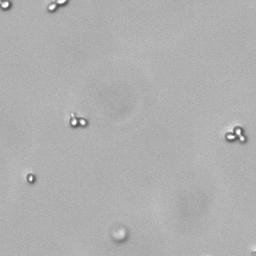budding: (225, 126, 247, 142), (68, 112, 88, 126), (46, 1, 69, 13)
individual: (1, 1, 11, 10), (27, 173, 34, 182)
